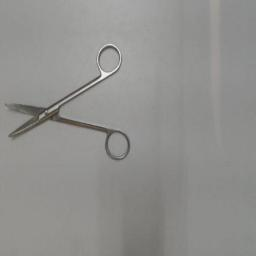Curved Mayo Scissors: (2, 38, 134, 166)
